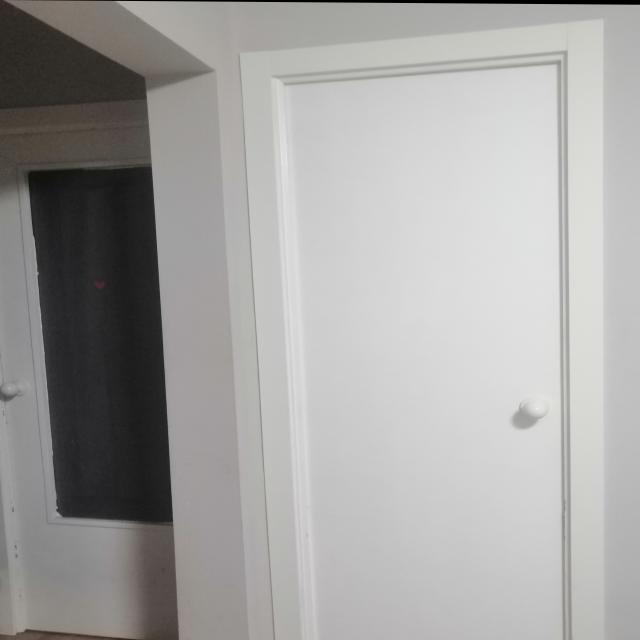door_handle: (504, 398, 554, 432)
